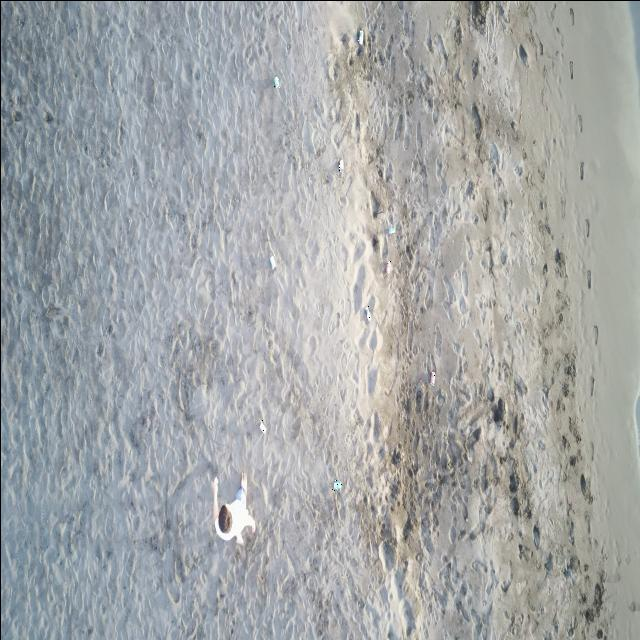Garbage: (364, 304, 371, 320), (332, 480, 342, 491), (384, 260, 392, 272), (272, 75, 279, 88), (356, 31, 363, 44), (268, 256, 275, 268), (337, 159, 343, 172), (430, 369, 435, 384), (387, 224, 395, 233), (260, 419, 264, 432)
